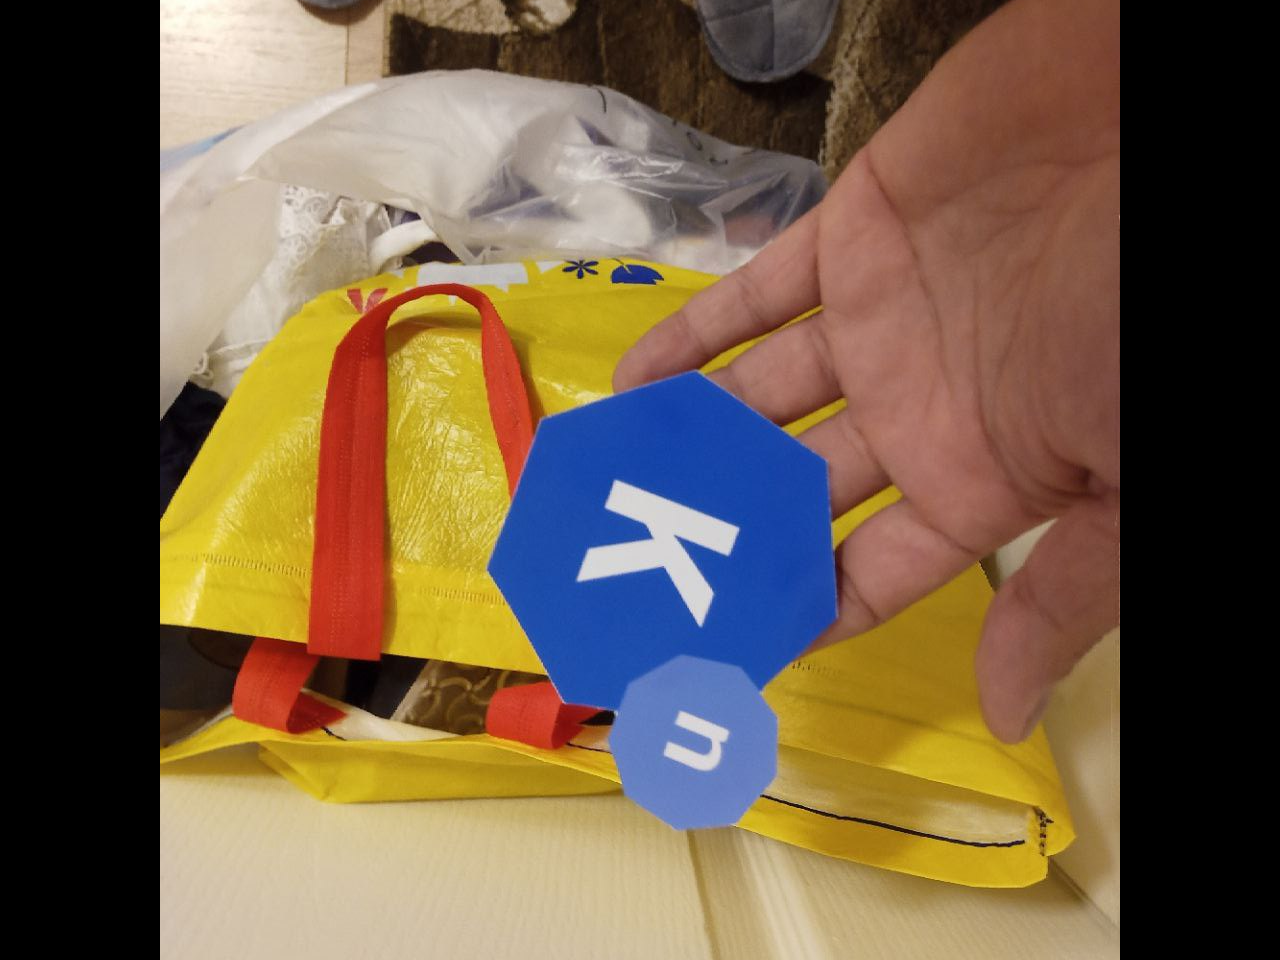knative: (489, 371, 835, 832)
